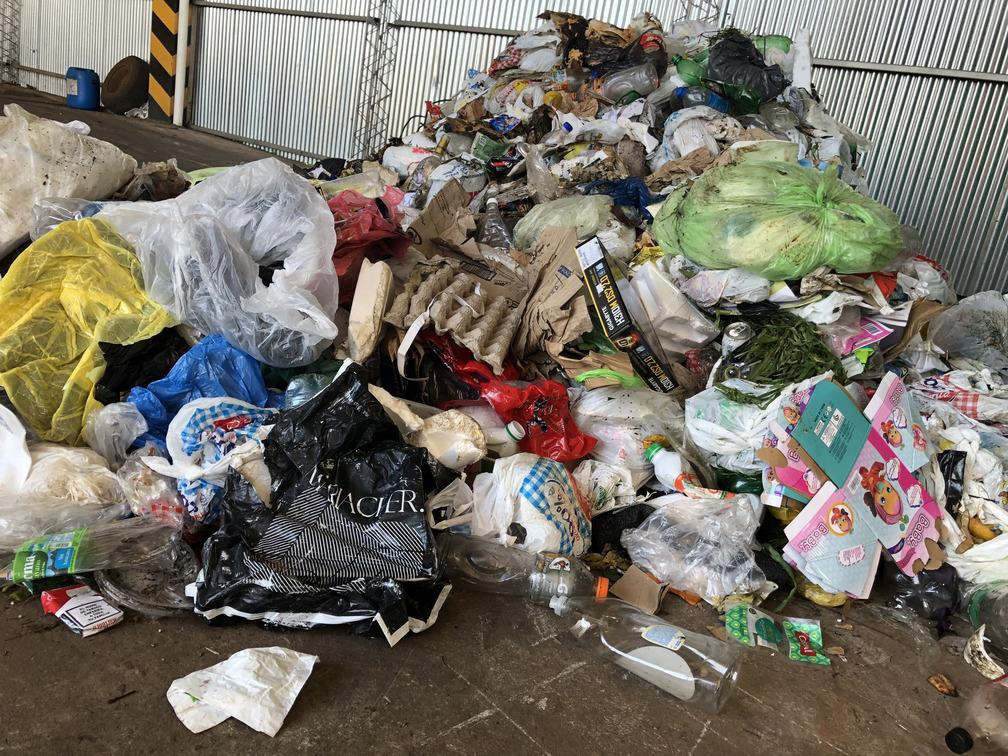bottle: (582, 566, 740, 657), (470, 2, 580, 81), (476, 193, 519, 258), (582, 64, 649, 105), (523, 151, 558, 197), (64, 82, 98, 107), (541, 70, 576, 94)
